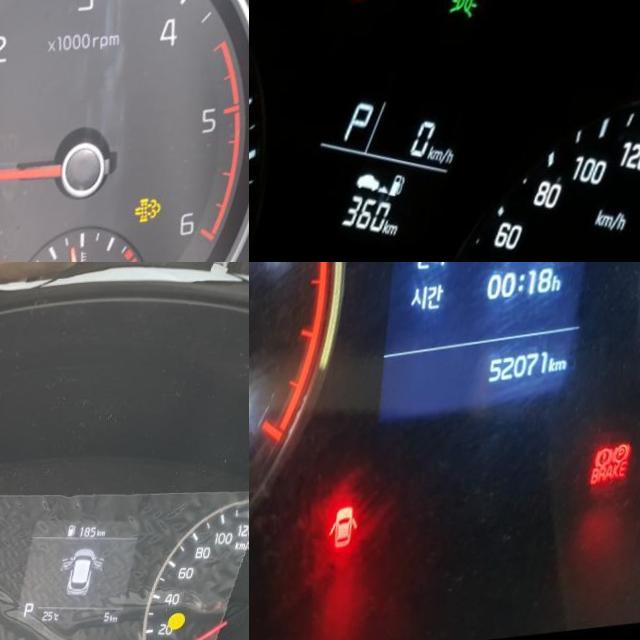Doors: (344, 504, 384, 547)
SideLamp: (448, 0, 485, 17)
